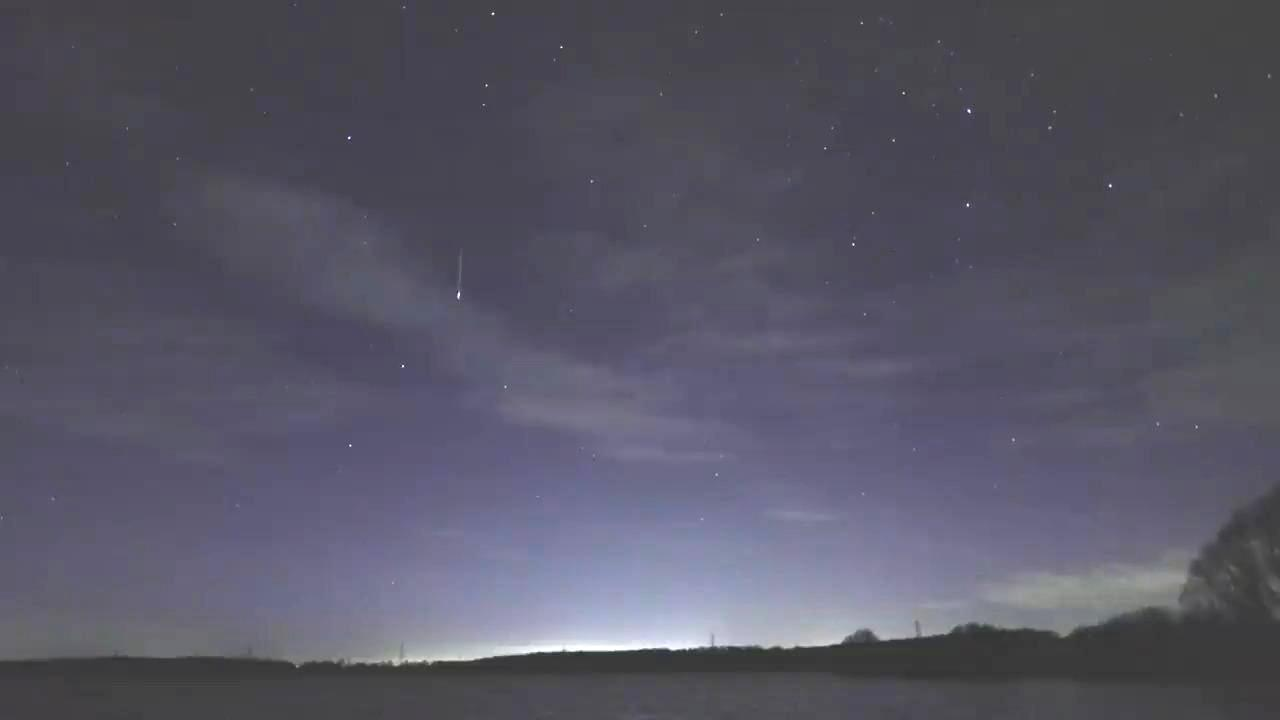meteorite: (422, 248, 494, 307)
